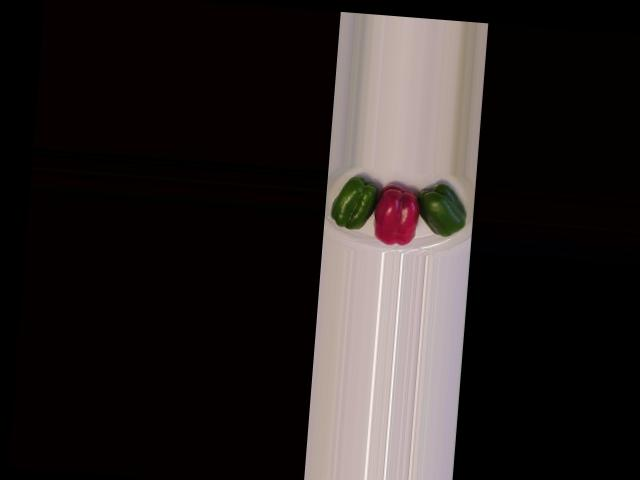bell_pepper: (414, 177, 471, 244)
